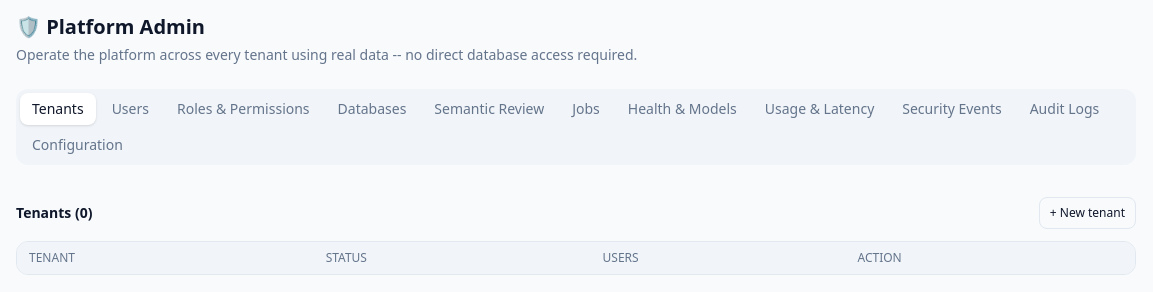
PlatformAdmin › shows only boolean config flags
The image size is (1153, 292).
Click the tab "Configuration" at [77, 145], box [20, 129, 135, 161]
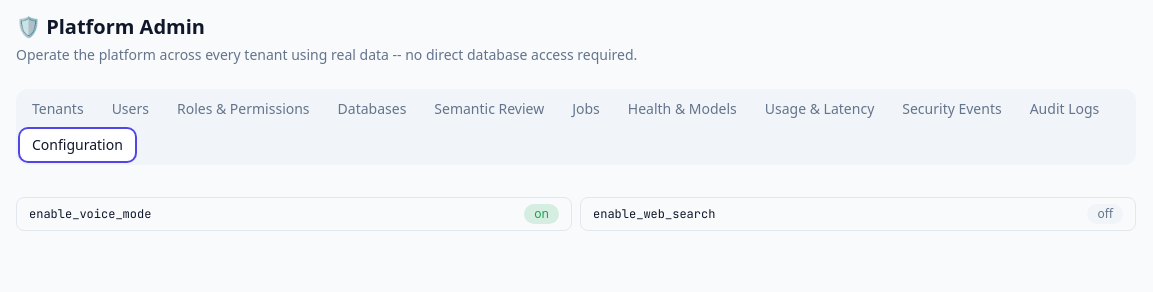
Now the text "enable_voice_mode" is shown, box [29, 206, 151, 222]
Now the text "enable_web_search" is shown, box [593, 206, 715, 222]
